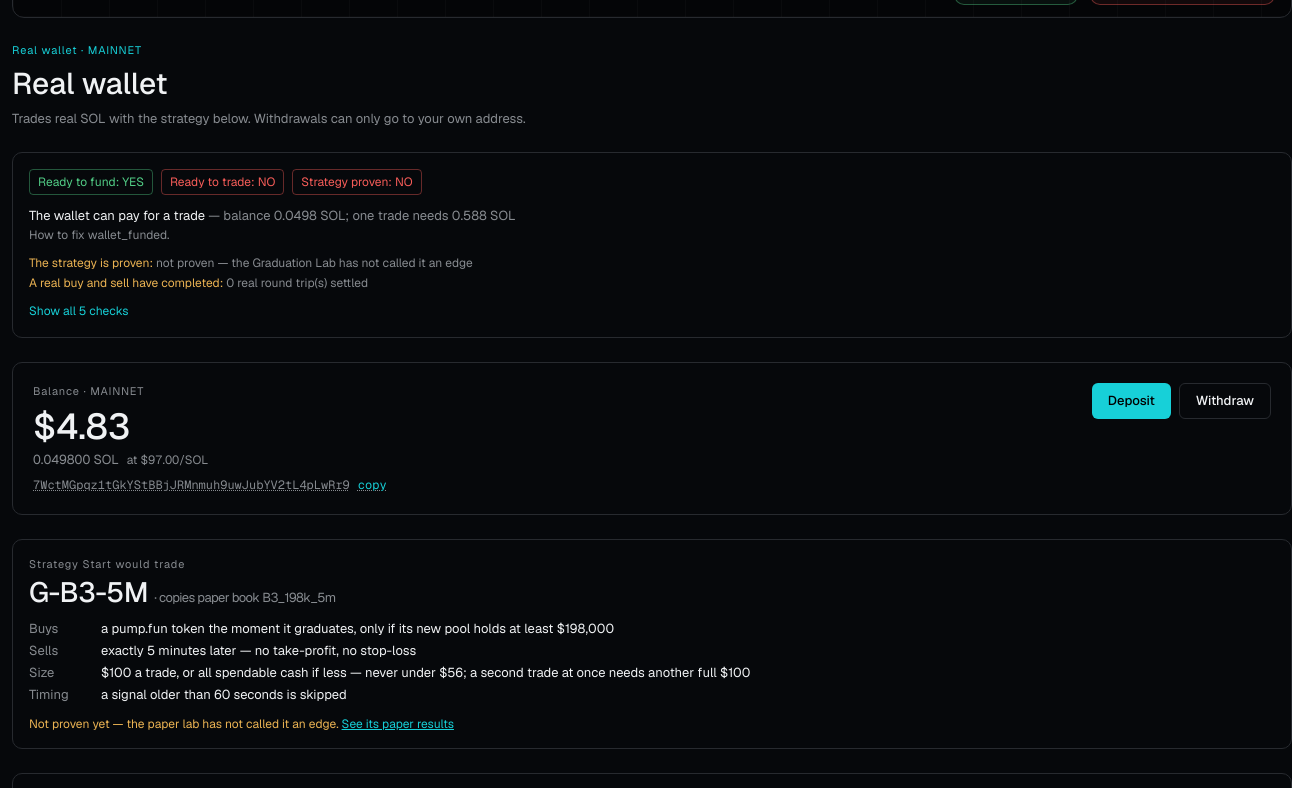
Test: RealWalletPage withdrawal › has no recipient field, only an amount, and shows the fixed destination
(page scrolled)
Expected: the button "7WctMGpqz1tGkYStBBjJRMnmuh9uwJubYV2tL4pLwRr9" is shown, [33,476,387,492]
Click the button "Withdraw" at (1225,400), box [1179,382,1271,418]
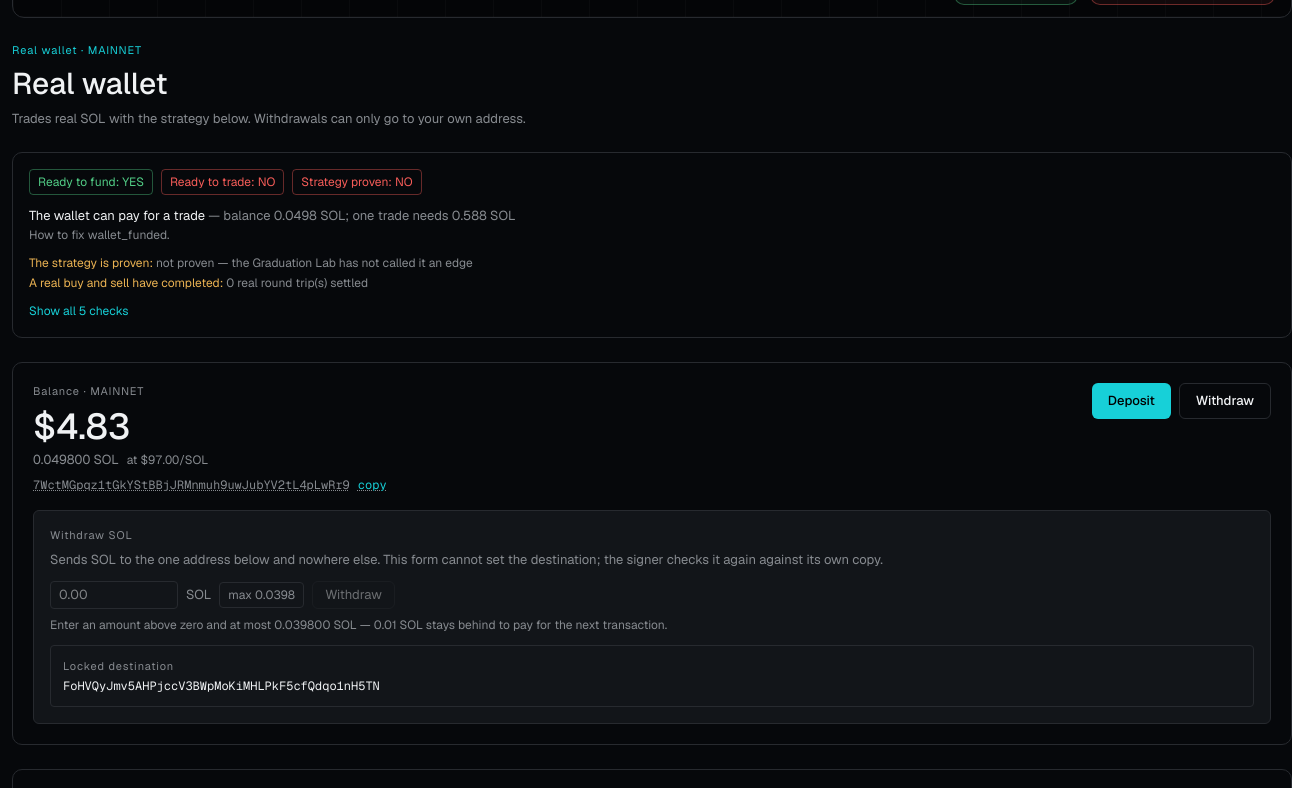
Expected: the text "Withdraw SOL" shows "Locked destination", [63,659,174,673]
Expected: the text "Withdraw SOL" shows "FoHVQyJmv5AHPjccV3BWpMoKiMHLPkF5cfQdqo1nH5TN", [63,678,380,694]
